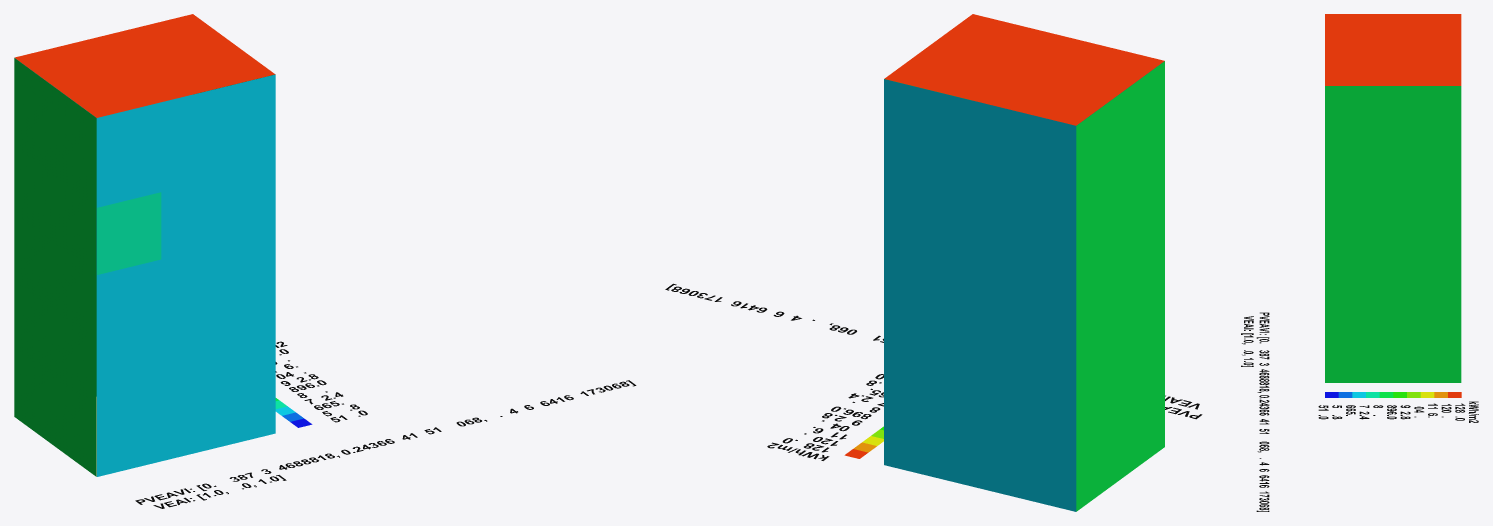
File: example1_part_pveavi.dae
3 renders of one model, left to right at view 1: azimuth 30°, elevation 25°; view 2: azimuth 150°, elevation 25°; view 3: azimuth 270°, elevation 25°, orthographic. The views are drawn at different scales.
Parts seen in each view (by area): view 1: node0 (×5); view 2: node0 (×4); view 3: node0 (×3).
Part boxes in pixels (left/top/right/bottom): node0 (×5): left=14, top=14, right=636, bottom=508; node0 (×4): left=665, top=14, right=1202, bottom=511; node0 (×3): left=1241, top=14, right=1478, bottom=511.
Bounding box in the file's own units: 69.77 × 34.86 × 48.01.
